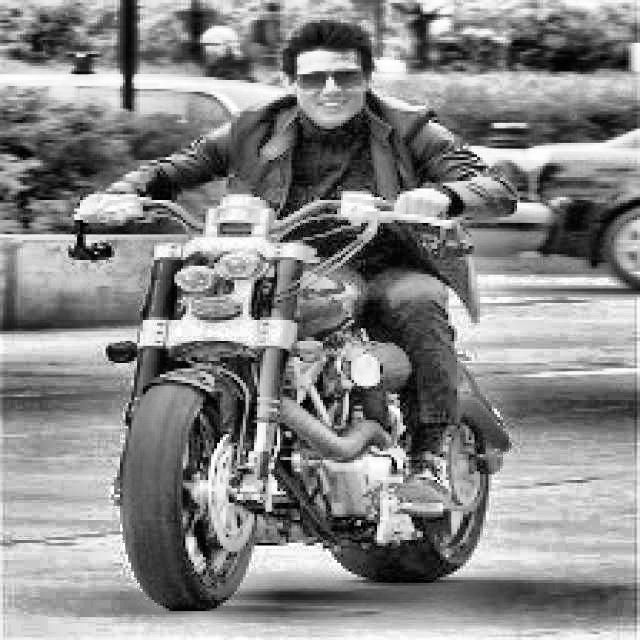motorcycle: (59, 170, 563, 607)
